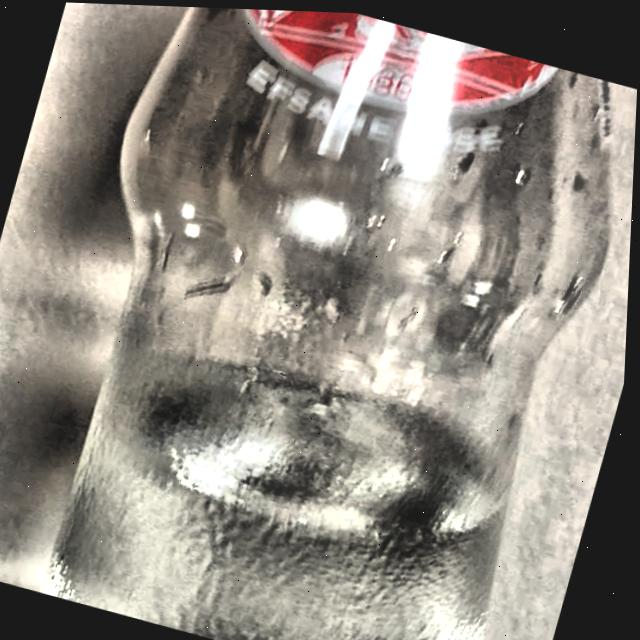plastic: (36, 5, 619, 640)
